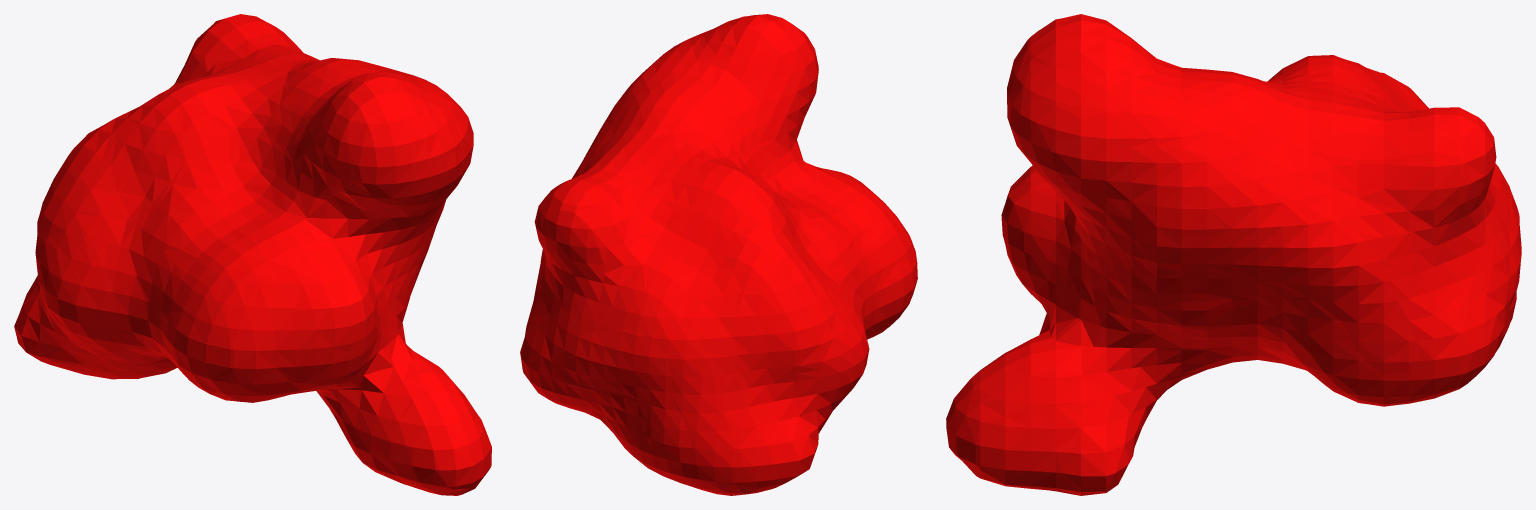
The model's file is rplQ_coarse.dae.
3 renders of one model, left to right at view 1: azimuth 30°, elevation 25°; view 2: azimuth 150°, elevation 25°; view 3: azimuth 270°, elevation 25°, orthographic. The views are drawn at different scales.
Parts seen in each view (by area): view 1: rplQ; view 2: rplQ; view 3: rplQ.
Boxes of the visible parts, bbox=[...] form: rplQ: bbox=[14, 14, 491, 495]; rplQ: bbox=[520, 14, 917, 495]; rplQ: bbox=[946, 14, 1521, 495].
Bounding box in the file's own units: 35.04 × 40.64 × 47.51.
